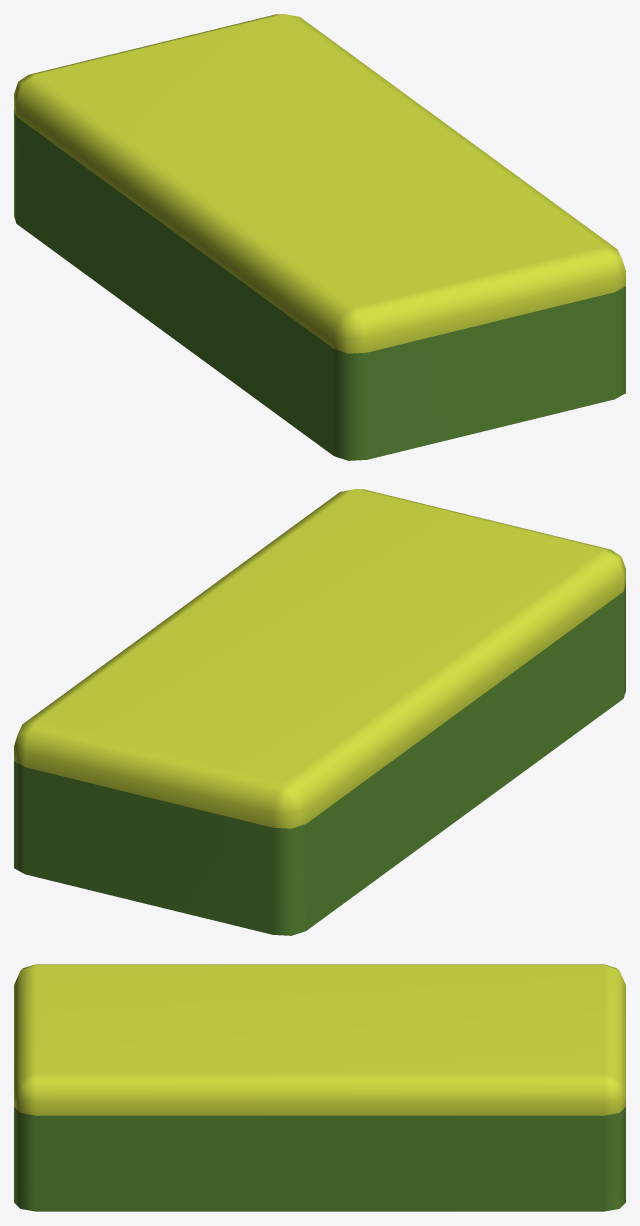
The picture shows the model from 3 angles, top to bottom: view 1: azimuth 30°, elevation 25°; view 2: azimuth 150°, elevation 25°; view 3: azimuth 270°, elevation 25°; orthographic projection. The views are drawn at different scales.
Visible parts, largest first — view 1: base_01; view 2: base_01; view 3: base_01.
Part boxes in pixels (x1,y1,x2,y2): base_01: (14, 14, 625, 460); base_01: (14, 489, 625, 935); base_01: (14, 964, 625, 1211).
Bounding box in the file's own units: 783 × 372 × 1600.
